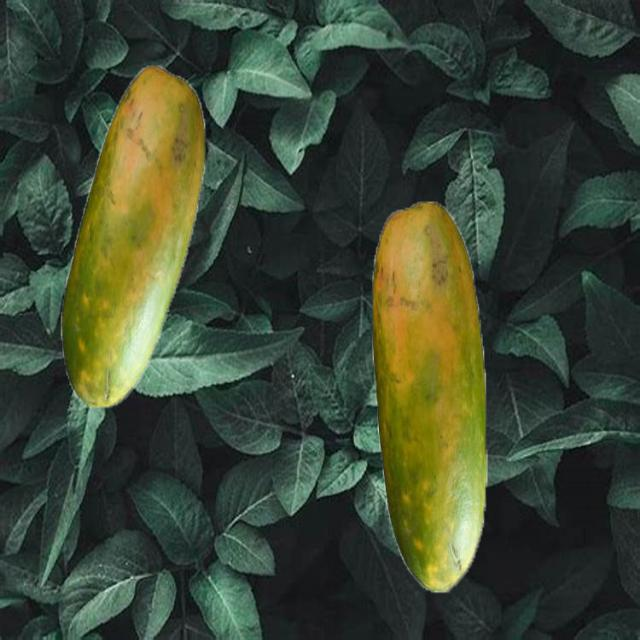Pepaya rippen: (360, 207, 501, 588), (60, 74, 206, 417)
